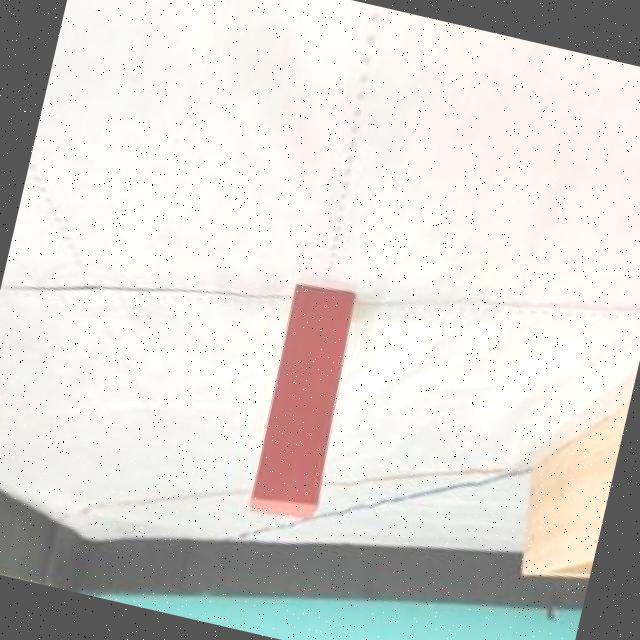redbox: (246, 272, 364, 526)
